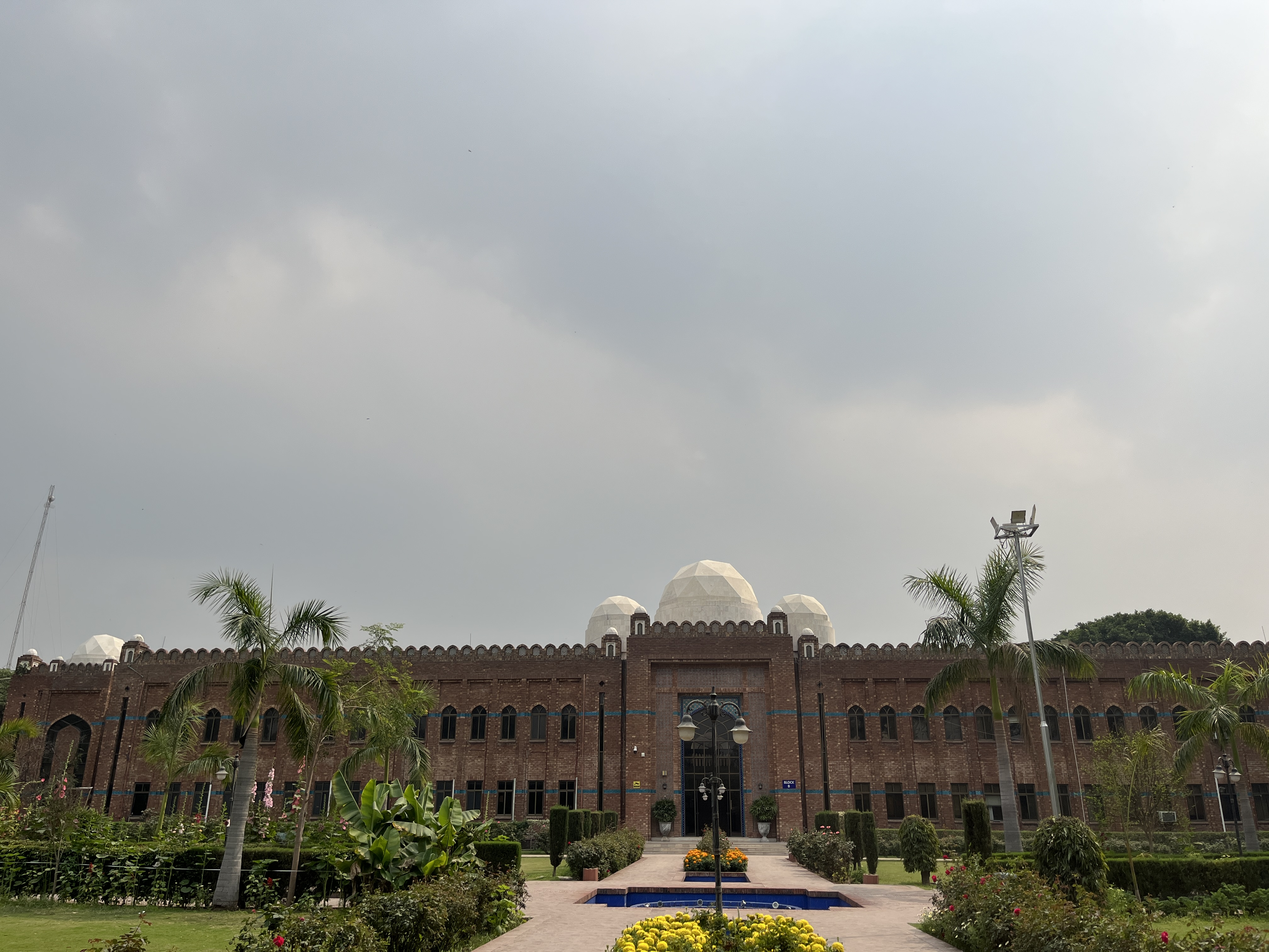Block B: (6, 556, 1269, 855)
